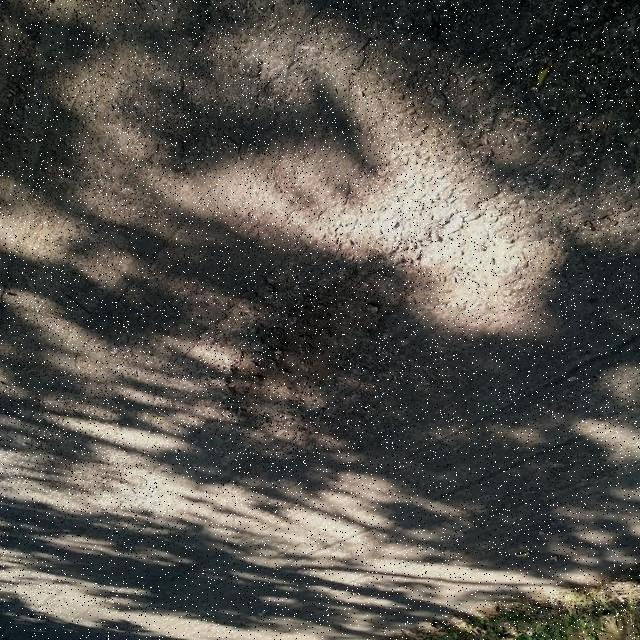Pothole: (218, 194, 560, 435)
